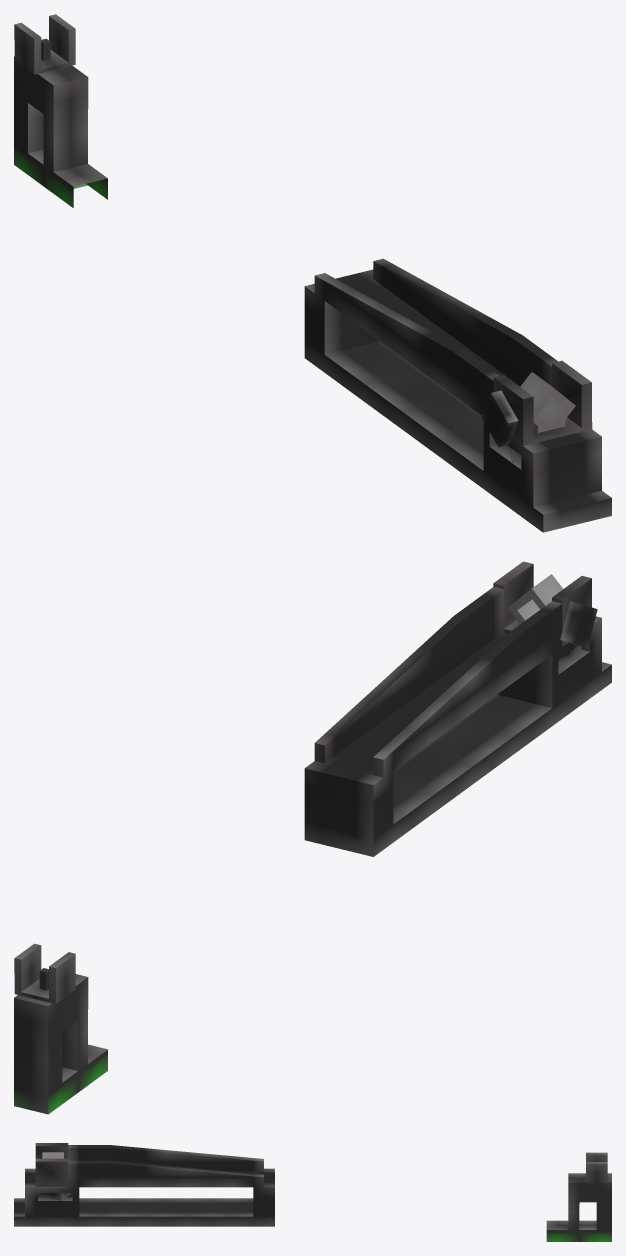
Rendered from m4_carry_handle.obj.
3 renders of one model, top to bottom at view 1: azimuth 30°, elevation 25°; view 2: azimuth 150°, elevation 25°; view 3: azimuth 270°, elevation 25°, orthographic. The views are drawn at different scales.
Parts seen in each view (by area): view 1: m4.002_Cube.002; view 2: m4.002_Cube.002; view 3: m4.002_Cube.002.
Part boxes in pixels (x1,y1,x2,y2): m4.002_Cube.002: (14, 14, 611, 532); m4.002_Cube.002: (14, 561, 611, 1114); m4.002_Cube.002: (14, 1143, 611, 1241).
Bounding box in the file's own units: 0.0362 × 0.0674 × 0.4297.
